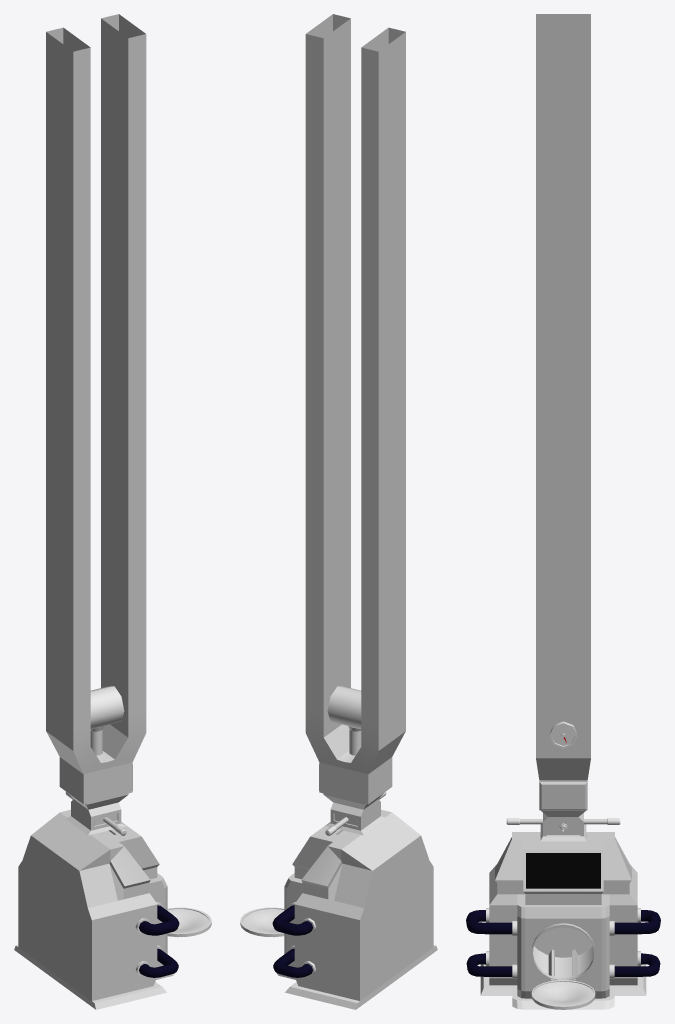
The model's file is TorpedoLauncher.fbx.
3 renders of one model, left to right at view 1: azimuth 30°, elevation 25°; view 2: azimuth 150°, elevation 25°; view 3: azimuth 270°, elevation 25°, orthographic.
Parts seen in each view (by area): view 1: Torpedo launcher, TorpedoDoor; view 2: Torpedo launcher, TorpedoDoor; view 3: Torpedo launcher, TorpedoDoor.
Part boxes in pixels (x1,y1,x2,y2): Torpedo launcher: (14,14,179,1009); TorpedoDoor: (167,907,211,937); Torpedo launcher: (272,14,437,1009); TorpedoDoor: (240,907,284,937); Torpedo launcher: (466,14,660,1009); TorpedoDoor: (531,980,595,1009).
Size of the model in its own units: 183 by 1074 by 200.
